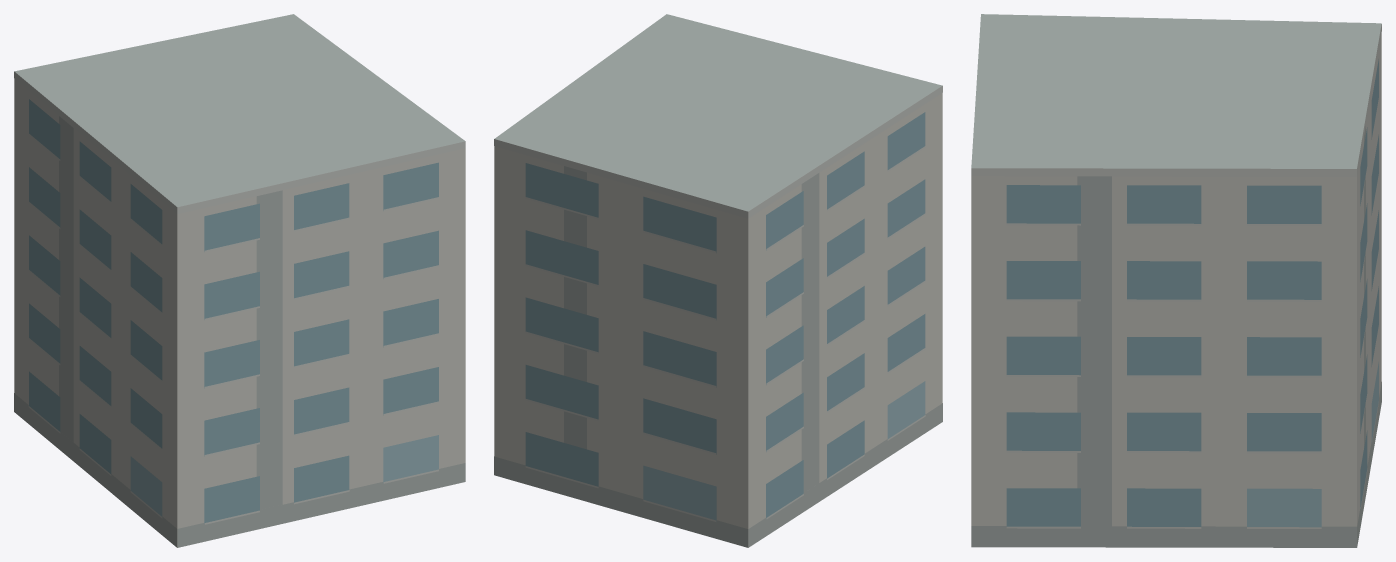
The model's file is survey-upis-32822464.glb.
The picture shows the model from 3 angles, left to right: view 1: azimuth 30°, elevation 25°; view 2: azimuth 150°, elevation 25°; view 3: azimuth 270°, elevation 25°; orthographic projection. The views are drawn at different scales.
Parts seen in each view (by area): view 1: survey-upis-32822464.tmp; view 2: survey-upis-32822464.tmp; view 3: survey-upis-32822464.tmp.
Boxes of the visible parts, x1,y1,x2,y2 form: survey-upis-32822464.tmp: (14,14,465,547); survey-upis-32822464.tmp: (494,14,942,547); survey-upis-32822464.tmp: (971,14,1381,547).
Size of the model in its own units: 10.27 by 11.7 by 11.5.
